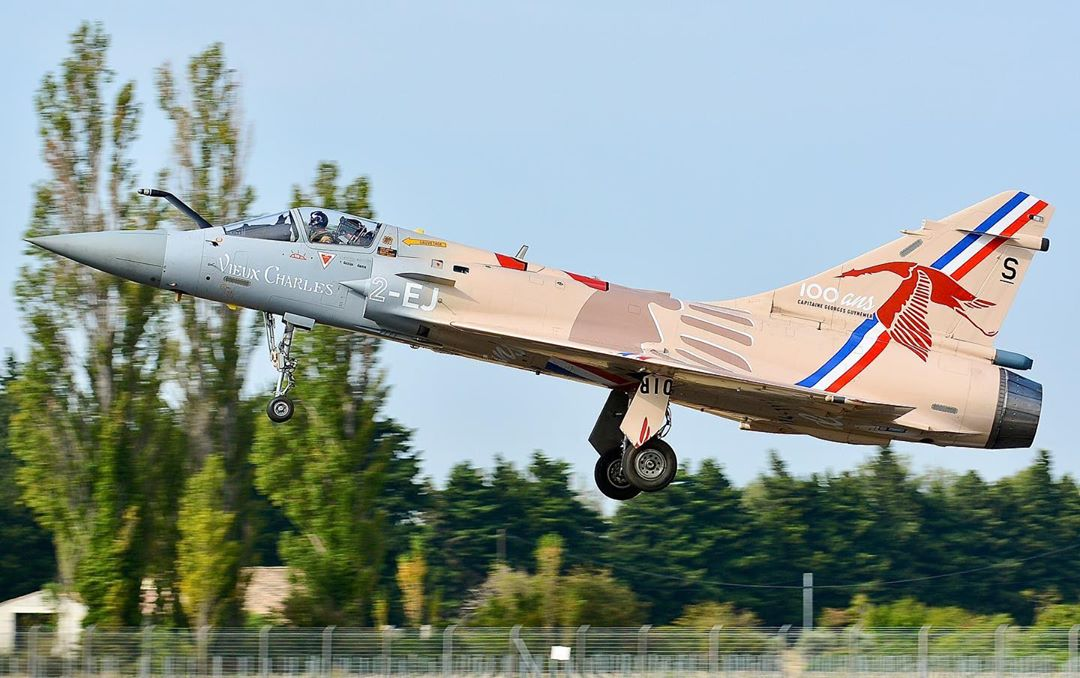Mirage2000: (21, 187, 1056, 500)
